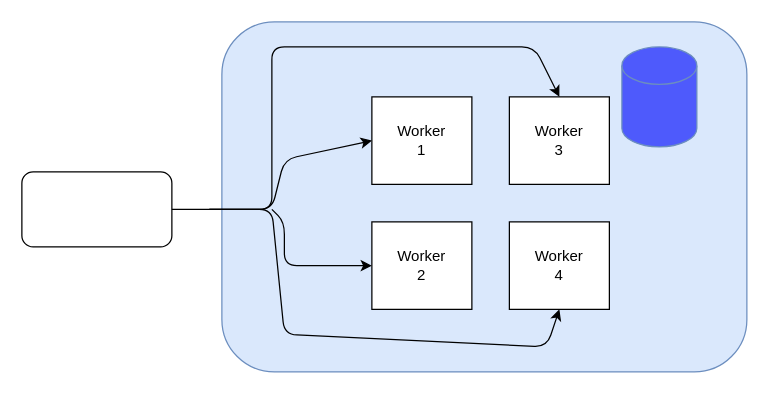
Some shapes in this 769 by 394 pixel diagram are drawn without their labels. Each missing label, with the centre of its shape:
File system: the point at 659,96
Task producer: the point at 96,209
